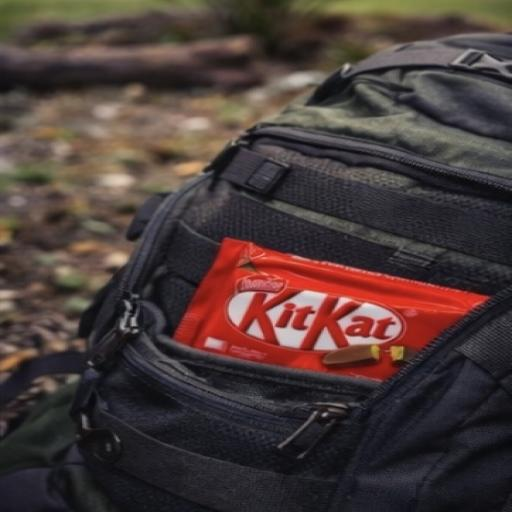kitkat: (137, 223, 512, 415)
